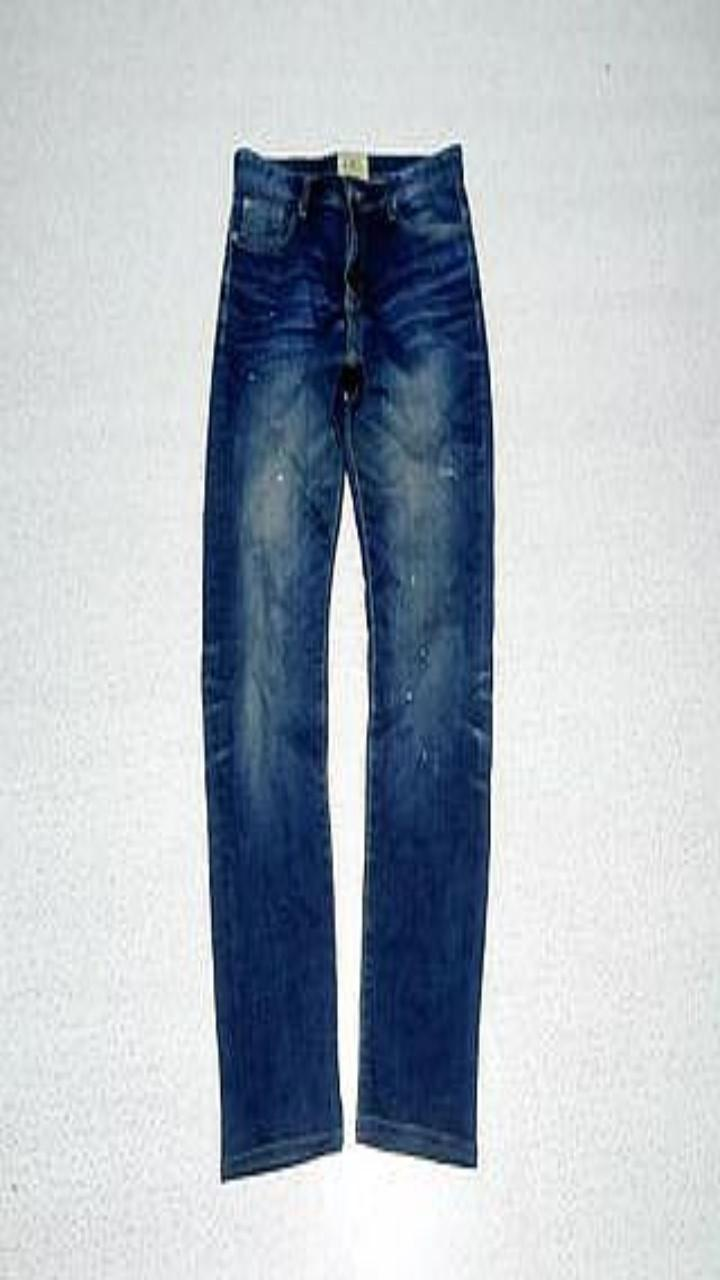Jeans: (202, 143, 493, 1179)
